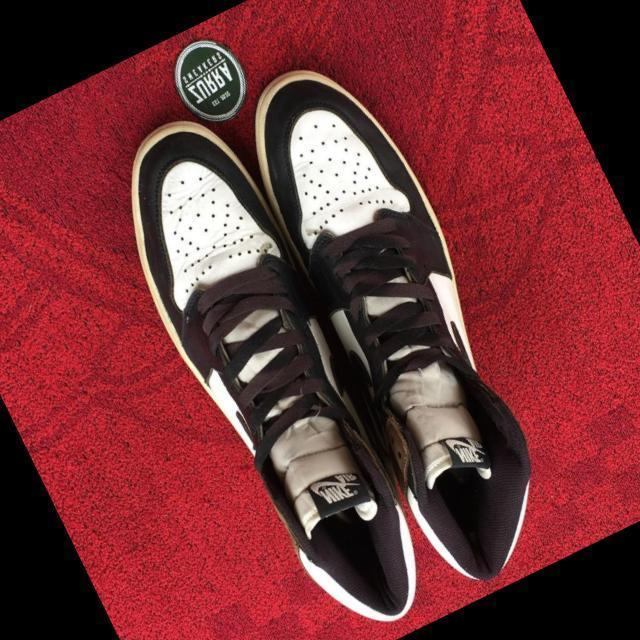nike original jordan 1: (210, 25, 596, 598), (83, 100, 461, 640)
